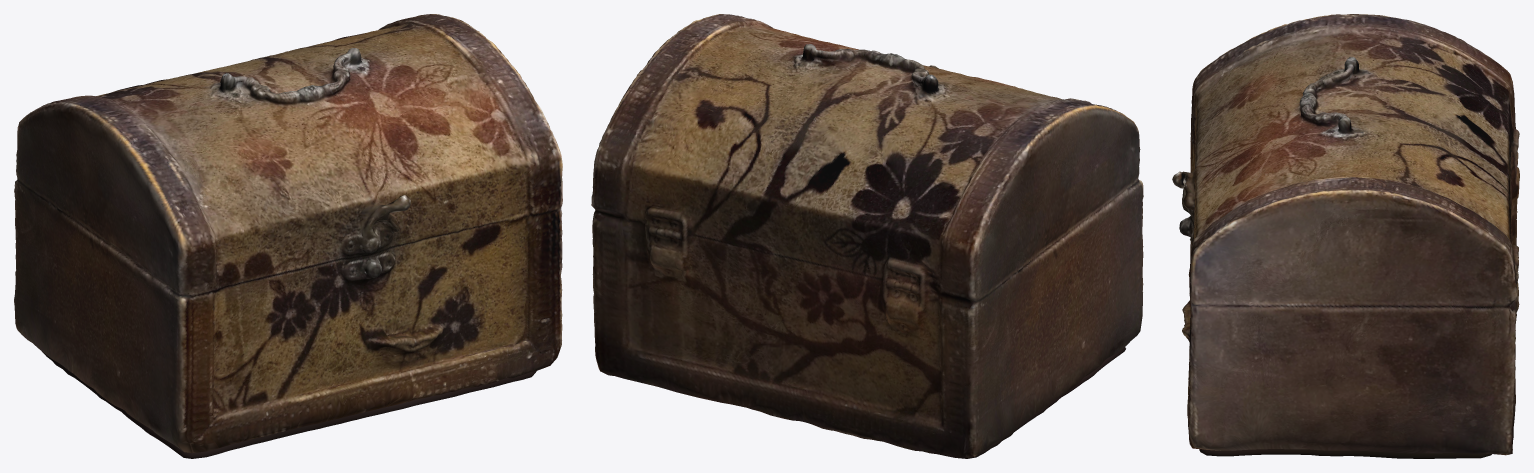
File: pandorabox.fbx
3 renders of one model, left to right at view 1: azimuth 30°, elevation 25°; view 2: azimuth 150°, elevation 25°; view 3: azimuth 270°, elevation 25°, orthographic. The views are drawn at different scales.
Visible parts, largest first — view 1: smallchest; view 2: smallchest; view 3: smallchest.
Part boxes in pixels (box(x1,y1,x2,y2)): smallchest: box(14, 14, 562, 458); smallchest: box(591, 14, 1143, 458); smallchest: box(1172, 14, 1519, 458).
Size of the model in its own units: 56.95 by 42.29 by 46.11.
